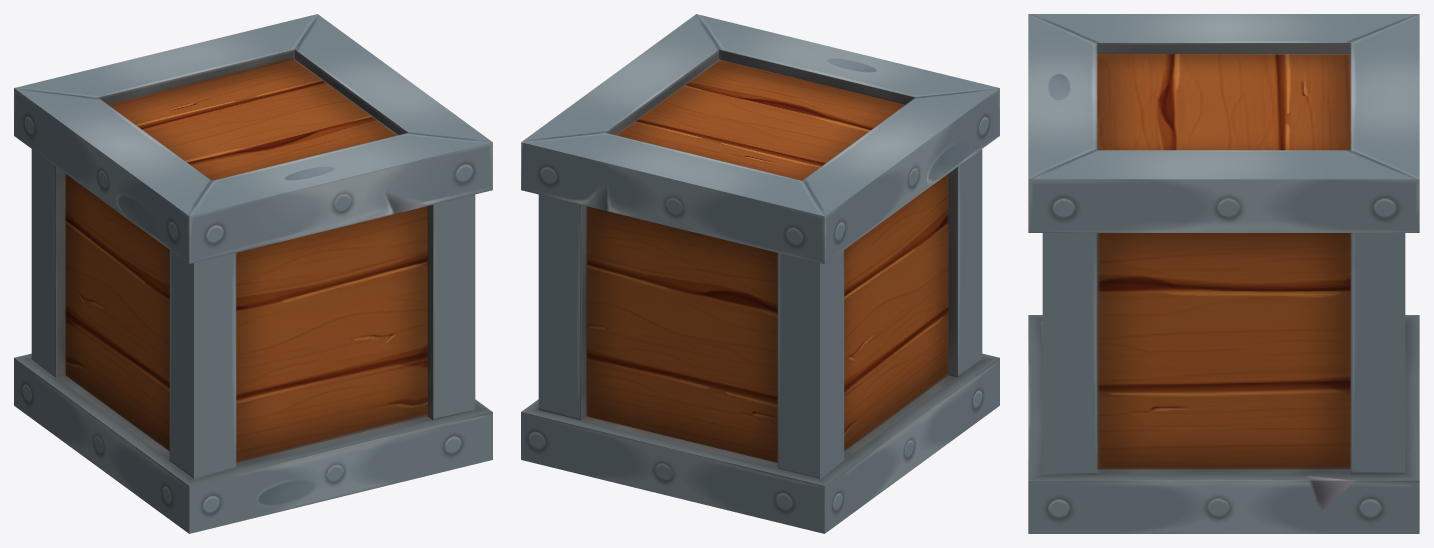
File: WoodMetal.fbx
3 renders of one model, left to right at view 1: azimuth 30°, elevation 25°; view 2: azimuth 150°, elevation 25°; view 3: azimuth 270°, elevation 25°, orthographic. The views are drawn at different scales.
Parts seen in each view (by area): view 1: Cube.016; view 2: Cube.016; view 3: Cube.016.
Boxes of the visible parts, box(x1,y1,x2,y2) form: Cube.016: box(14, 14, 492, 533); Cube.016: box(521, 14, 999, 533); Cube.016: box(1028, 14, 1419, 533).
Size of the model in its own units: 106 by 106 by 106.
Materials: 1 (1 with a texture image).
